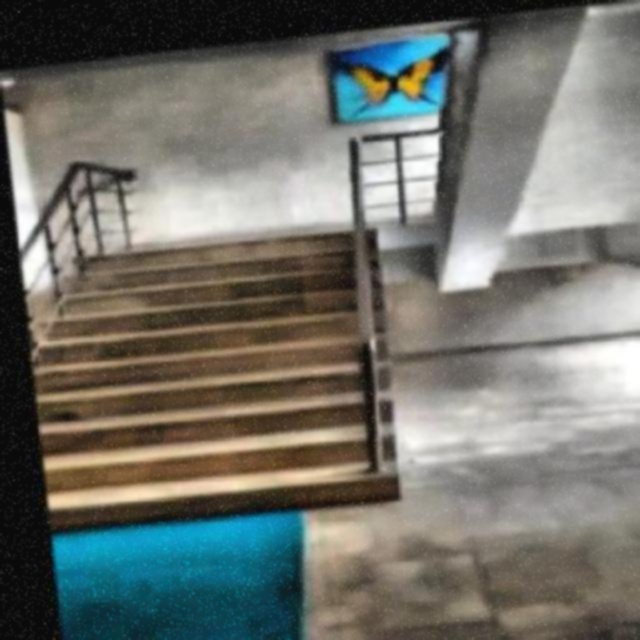stair: (18, 215, 402, 525)
